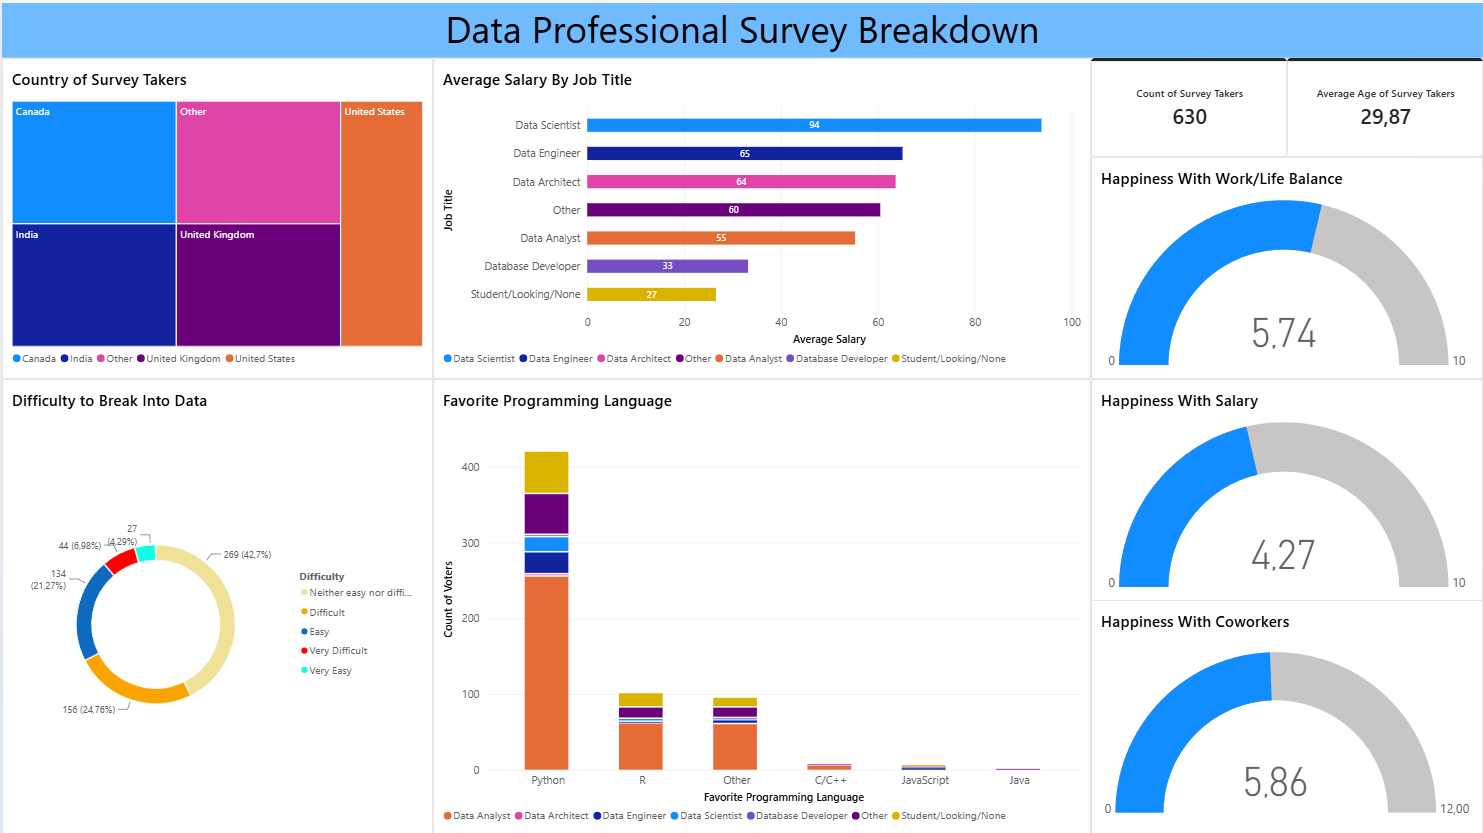

What the dashboard file says about the page in this screenshot:
{"tool":"powerbi","page":{"name":"Page 1","canvas":[1920,1080],"ordinal":0},"visuals":[{"type":"textbox","box":[0,0,1920,70.7],"z":0},{"type":"cardVisual","fields":{"Data":["Count(Data Professional Survey.Unique ID)"]},"box":[1411.5,70.7,254.2,128.6],"z":1},{"type":"cardVisual","fields":{"Data":["Avg(Data Professional Survey.Q10 - Current Age)"]},"box":[1665.8,70.7,254.2,128.6],"z":2},{"type":"barChart","title":"Average Salary By Job Title","fields":{"Category":["Data Professional Survey.Q1 - Which Title Best Fits your Current Role?.1"],"Series":["Data Professional Survey.Q1 - Which Title Best Fits your Current Role?.1"],"Y":["Avg(Data Professional Survey.Average Salary)"]},"box":[558.5,70.7,853,416.2],"z":3},{"type":"columnChart","title":"Favorite Programming Language","fields":{"Category":["Data Professional Survey.Q5 - Favorite Programming Language.1"],"Series":["Data Professional Survey.Q1 - Which Title Best Fits your Current Role?.1"],"Y":["Count(Data Professional Survey.Unique ID)"]},"box":[558.5,486.9,853,592.9],"z":4},{"type":"treemap","title":"Country of Survey Takers","fields":{"Group":["Data Professional Survey.Q11 - Which Country do you live in?.1"],"Values":["Count(Data Professional Survey.Q11 - Which Country do you live in?.1)"]},"box":[0,70.7,558.5,416.2],"z":5},{"type":"gauge","title":"Happiness With Work/Life Balance","fields":{"MaxValue":["Max(Data Professional Survey.Q6 - How Happy are you in your Current Position with the following? (Work/Life Balance))2"],"MinValue":["Min(Data Professional Survey.Q6 - How Happy are you in your Current Position with the following? (Work/Life Balance))1"],"Y":["Avg(Data Professional Survey.Q6 - How Happy are you in your Current Position with the following? (Work/Life Balance))"]},"box":[1411.5,199.3,508.5,287.6],"z":6},{"type":"gauge","title":"Happiness With Salary","fields":{"MaxValue":["Max(Data Professional Survey.Q6 - How Happy are you in your Current Position with the following? (Salary))2"],"MinValue":["Min(Data Professional Survey.Q6 - How Happy are you in your Current Position with the following? (Salary))1"],"Y":["Avg(Data Professional Survey.Q6 - How Happy are you in your Current Position with the following? (Salary))"]},"box":[1411.5,486.9,508.5,287.6],"z":7},{"type":"donutChart","title":"Difficulty to Break Into Data","fields":{"Category":["Data Professional Survey.Q7 - How difficult was it for you to break into Data?"],"Y":["CountNonNull(Data Professional Survey.Q7 - How difficult was it for you to break into Data?)"]},"box":[0,486.9,558.5,592.9],"z":8},{"type":"gauge","title":"Happiness With Coworkers","fields":{"MaxValue":["Count(Data Professional Survey.Q6 - How Happy are you in your Current Position with the following? (Coworkers))2"],"MinValue":["Min(Data Professional Survey.Q6 - How Happy are you in your Current Position with the following? (Coworkers))1"],"Y":["Avg(Data Professional Survey.Q6 - How Happy are you in your Current Position with the following? (Coworkers))"]},"box":[1411.5,774.5,508.5,305.3],"z":9}]}

Visuals, with their boxes in screenshot pixels (x1, y1, x2, y2), scaled from the page's 1920x1080 canvas onto the 1483x833 screenshot:
textbox: left=0, top=0, right=1482, bottom=55
cardVisual - Count(Data Professional Survey.Unique ID): left=1090, top=55, right=1287, bottom=154
cardVisual - Avg(Data Professional Survey.Q10 - Current Age): left=1287, top=55, right=1482, bottom=154
"Average Salary By Job Title" barChart: left=431, top=55, right=1090, bottom=376
"Favorite Programming Language" columnChart: left=431, top=376, right=1090, bottom=832
"Country of Survey Takers" treemap: left=0, top=55, right=431, bottom=376
"Happiness With Work/Life Balance" gauge: left=1090, top=154, right=1482, bottom=376
"Happiness With Salary" gauge: left=1090, top=376, right=1482, bottom=597
"Difficulty to Break Into Data" donutChart: left=0, top=376, right=431, bottom=832
"Happiness With Coworkers" gauge: left=1090, top=597, right=1482, bottom=832
